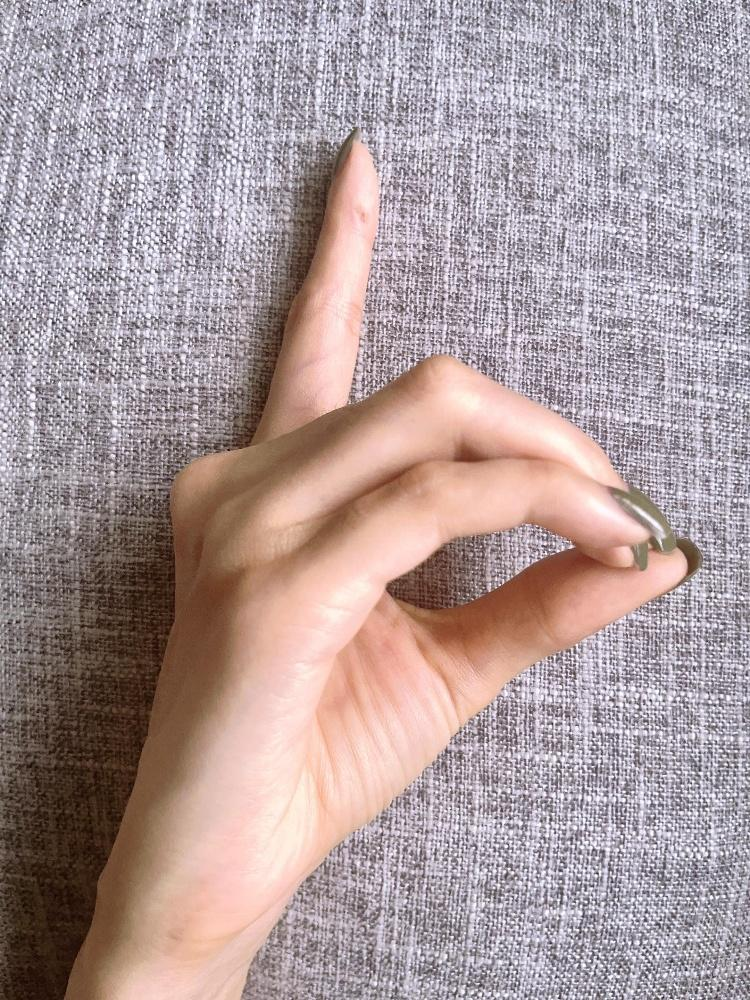d: (114, 122, 702, 902)
